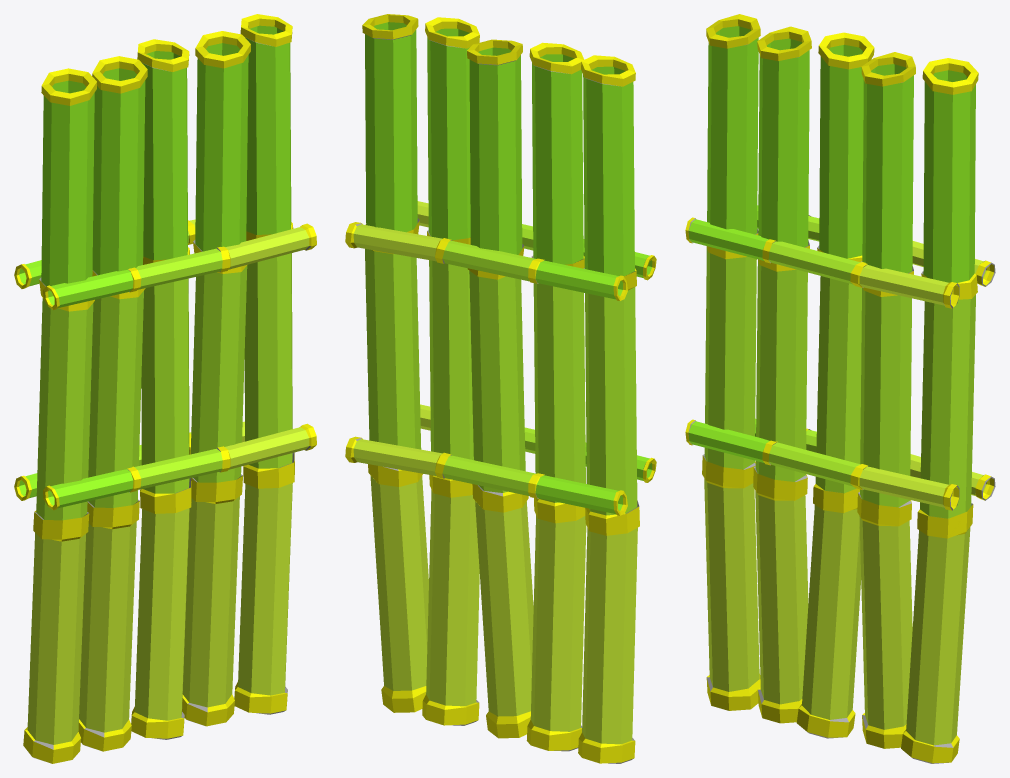
Rendered from BambooWallNew.fbx.
The picture shows the model from 3 angles, left to right: view 1: azimuth 30°, elevation 25°; view 2: azimuth 150°, elevation 25°; view 3: azimuth 330°, elevation 25°; orthographic projection.
Visible parts, largest first — view 1: polySurface185; view 2: polySurface185; view 3: polySurface185.
Part boxes in pixels (x1=…): polySurface185: x1=14, y1=14, x2=316, y2=763; polySurface185: x1=345, y1=14, x2=656, y2=763; polySurface185: x1=685, y1=14, x2=995, y2=763.
Bounding box in the file's own units: 2.21 × 5.42 × 0.695.
